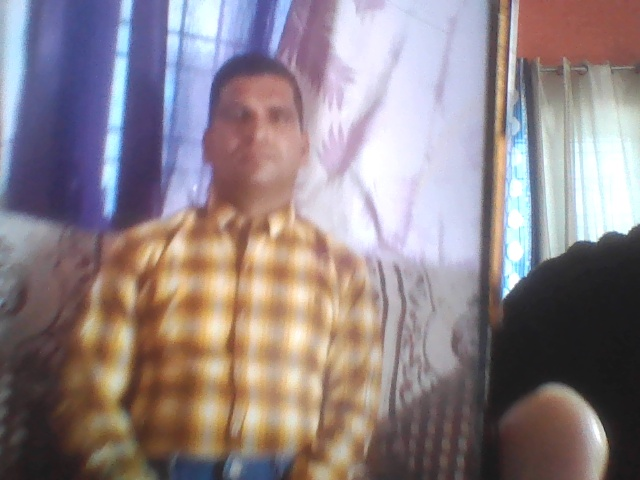fake: (207, 34, 317, 190)
